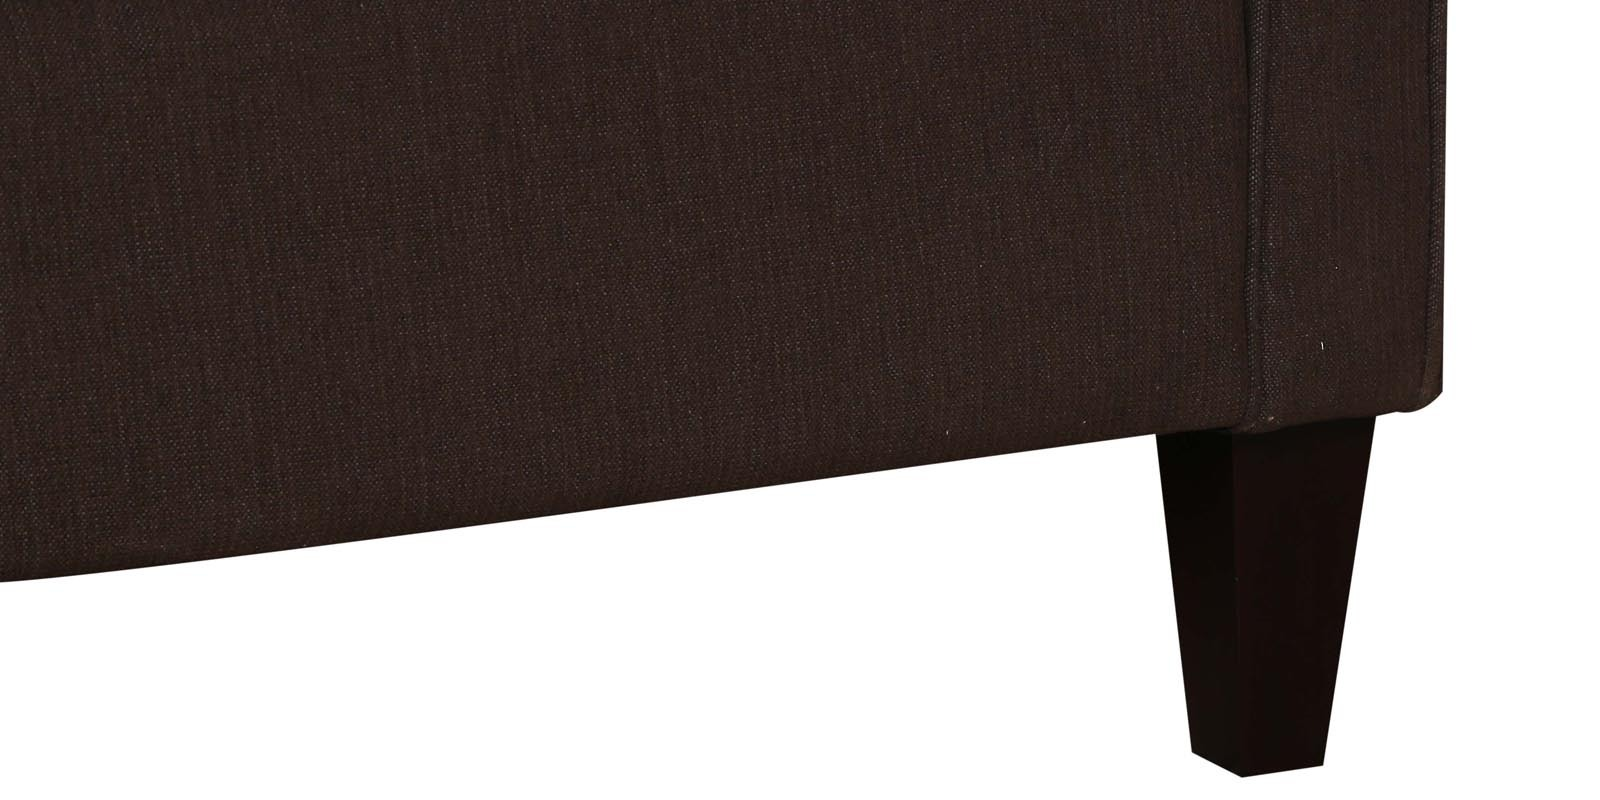Oscar Three Seater Sofa in Chestnut Brown Colour by CasaCraft: (1, 1, 1448, 778)
